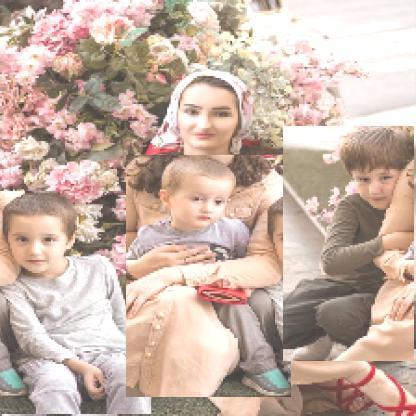child: (127, 156, 294, 399), (1, 192, 154, 416), (284, 127, 416, 363)
